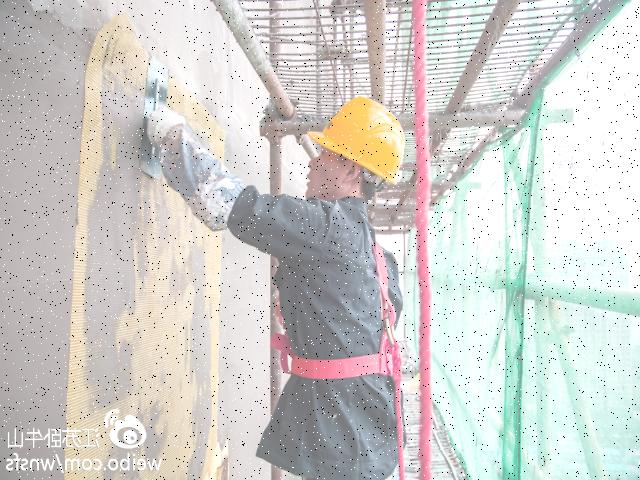Helmet: (302, 93, 410, 191)
